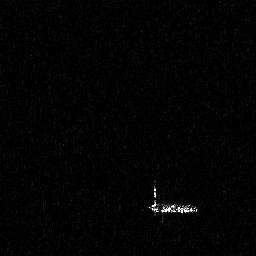ship: (144, 181, 200, 220)
